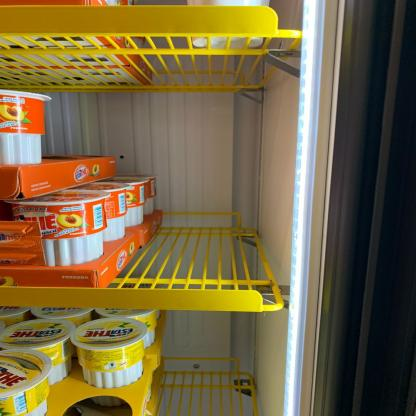pot: (21, 197, 99, 265), (78, 334, 143, 387), (1, 88, 43, 160)
